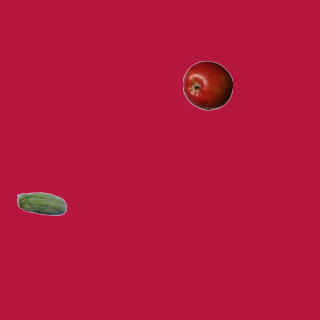Apple Braeburn: (182, 60, 232, 110)
Corn Husk: (16, 180, 66, 230)
